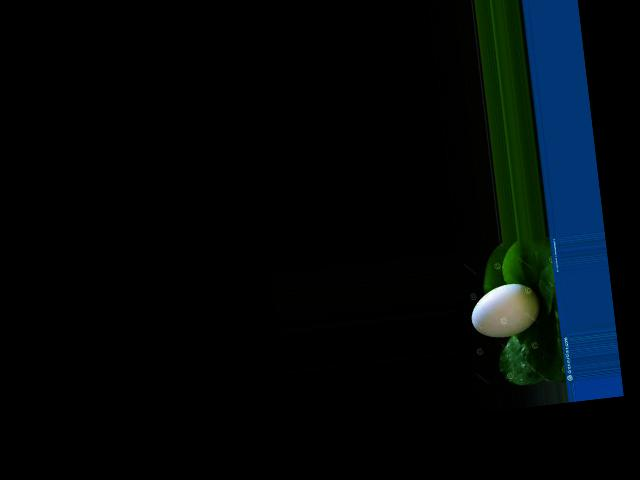egg: (468, 280, 543, 340)
